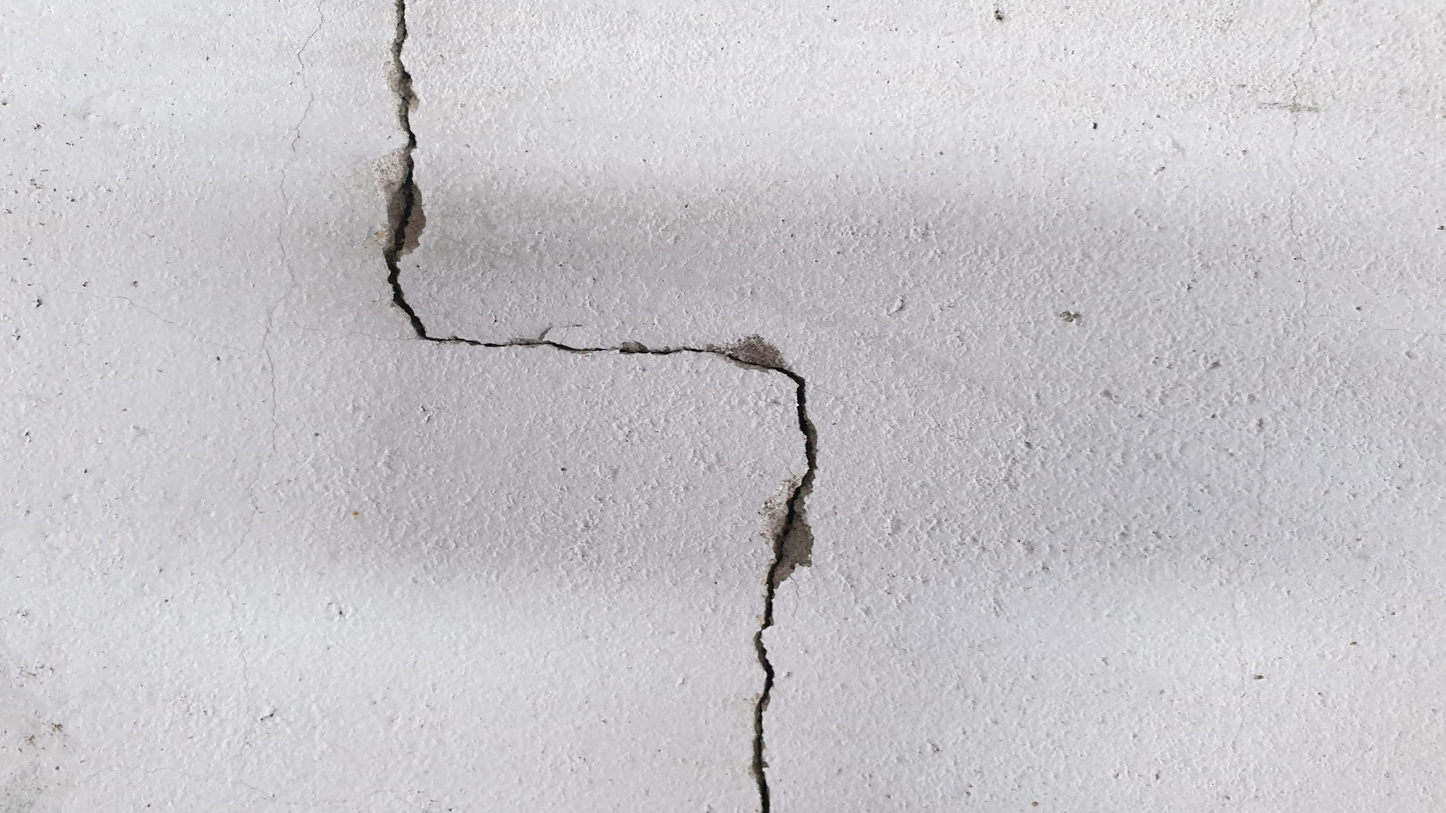crack: (382, 2, 816, 812)
